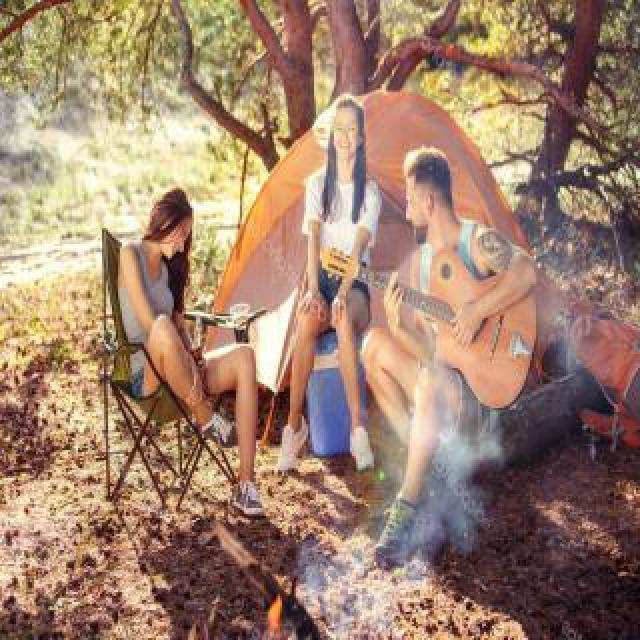Fire: (258, 578, 290, 638)
Smoke: (298, 412, 510, 638)
